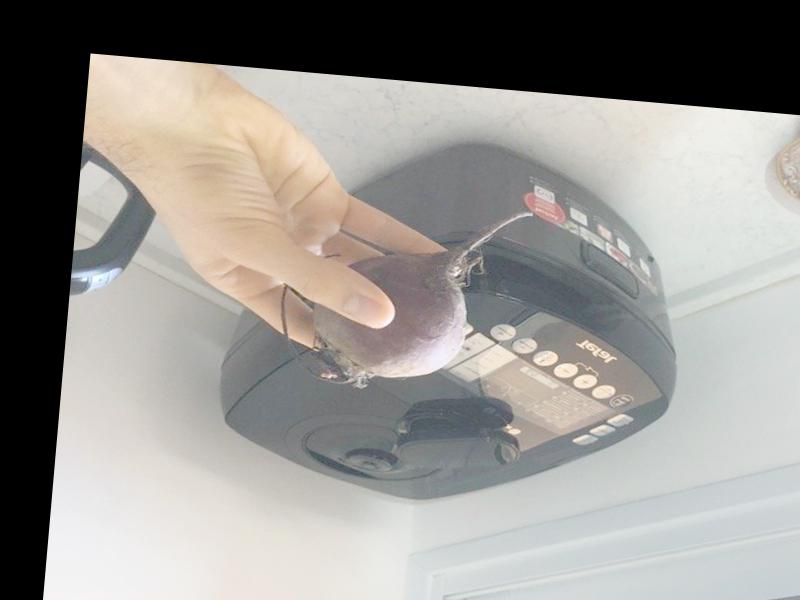Beet: (277, 188, 532, 401)
